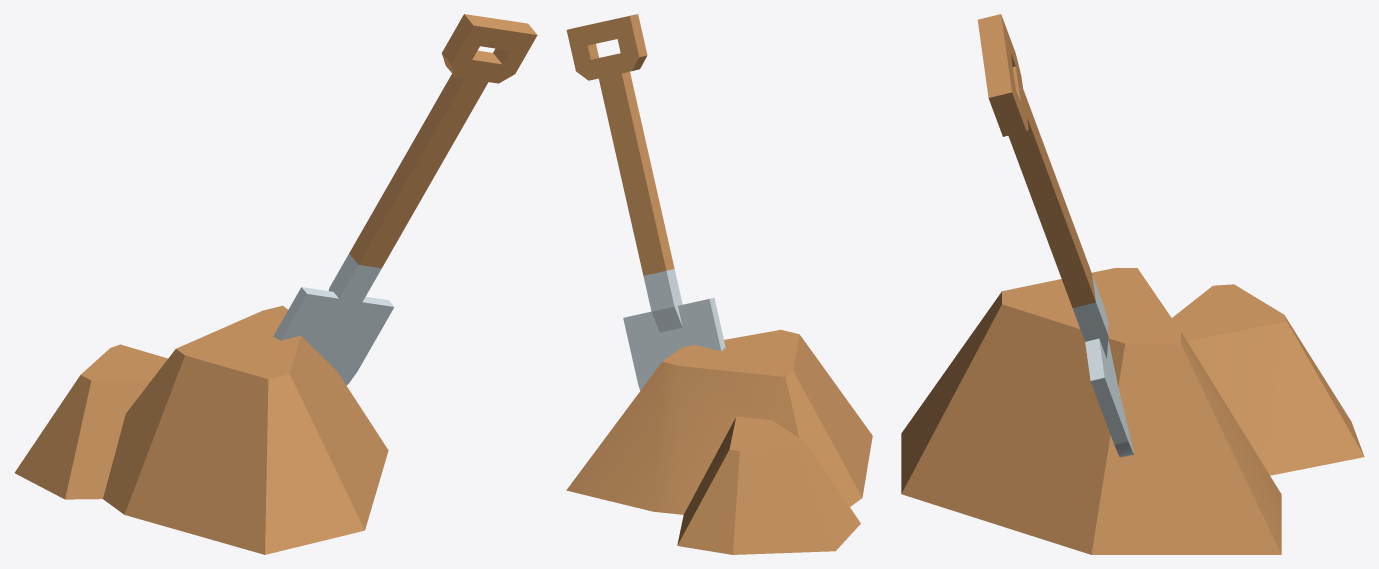
The model's file is shovelDirt.dae.
The picture shows the model from 3 angles, left to right: view 1: azimuth 30°, elevation 25°; view 2: azimuth 150°, elevation 25°; view 3: azimuth 270°, elevation 25°; orthographic projection. The views are drawn at different scales.
Visible parts, largest first — view 1: shovelDirt; view 2: shovelDirt; view 3: shovelDirt.
Part boxes in pixels (left/top/right/bottom): shovelDirt: left=14, top=14, right=537, bottom=554; shovelDirt: left=566, top=14, right=872, bottom=554; shovelDirt: left=901, top=14, right=1364, bottom=554.
Size of the model in its own units: 0.6465 by 0.6804 by 0.5057.
